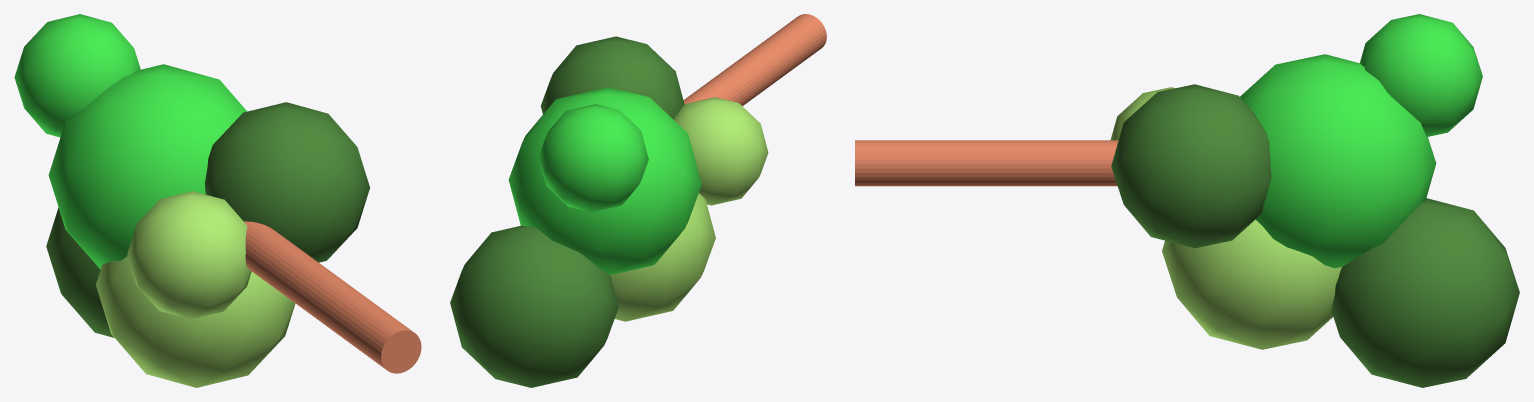
File: tree.fbx
The picture shows the model from 3 angles, left to right: view 1: azimuth 30°, elevation 25°; view 2: azimuth 150°, elevation 25°; view 3: azimuth 270°, elevation 25°; orthographic projection. The views are drawn at different scales.
Parts seen in each view (by area): view 1: Icosphere.006; view 2: Icosphere.006; view 3: Icosphere.006.
Part boxes in pixels (x1,y1,x2,y2): Icosphere.006: (14,14,421,387); Icosphere.006: (450,14,826,387); Icosphere.006: (855,14,1519,387).
Bounding box in the file's own units: 527 × 1353 × 740.
